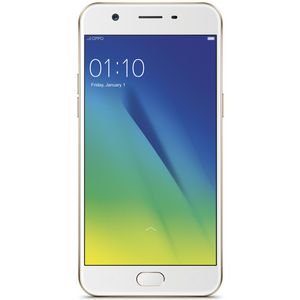mobile: (75, 3, 239, 300)
